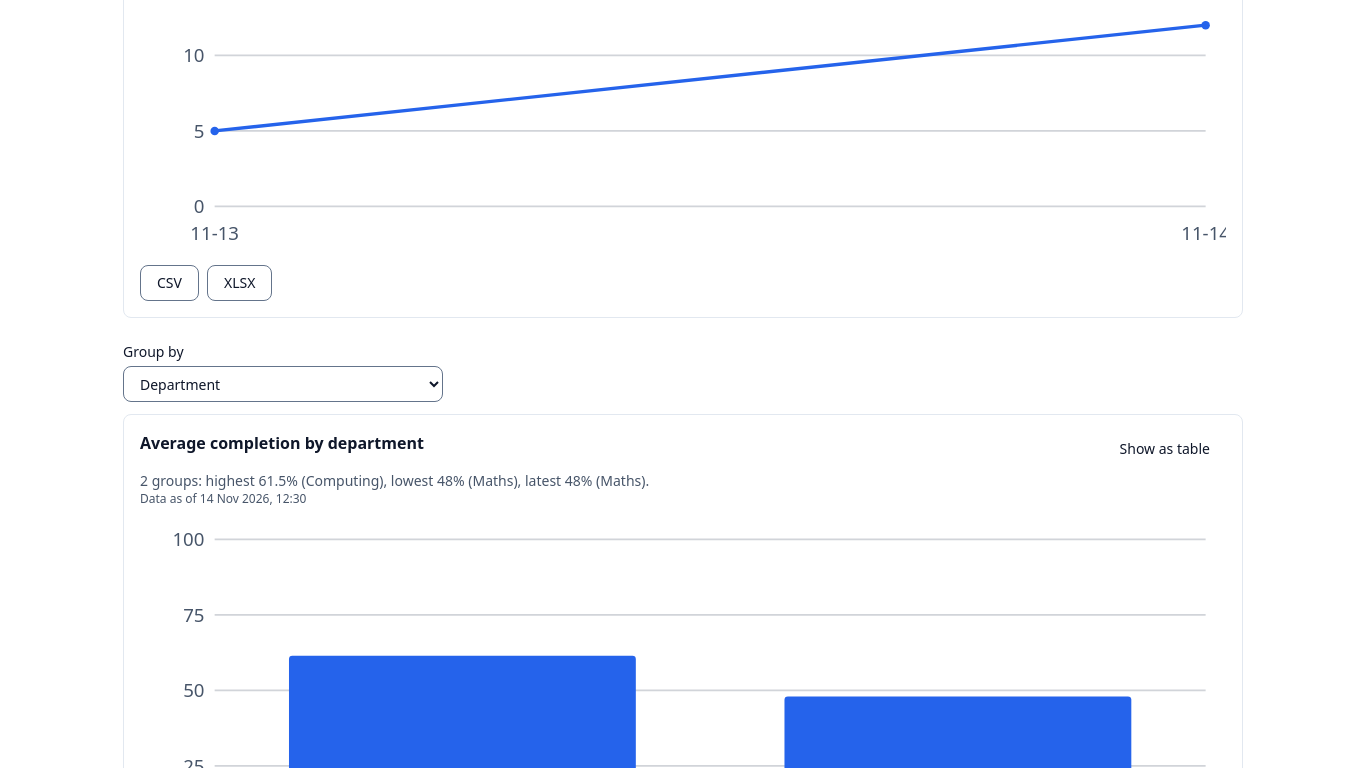
Test: college dashboard › shows active users, the activity chart, results by group, and every table with an export; switching the group refetches
The width and height of the screenshot is (1366, 768).
(page scrolled)
Expected: the button with aria-label "Export Daily activity as XLSX" is shown, [207,265,272,301]
Select "Section" in the dropdown labelled "Group by". click: (283, 384)
box: [123,366,443,402]
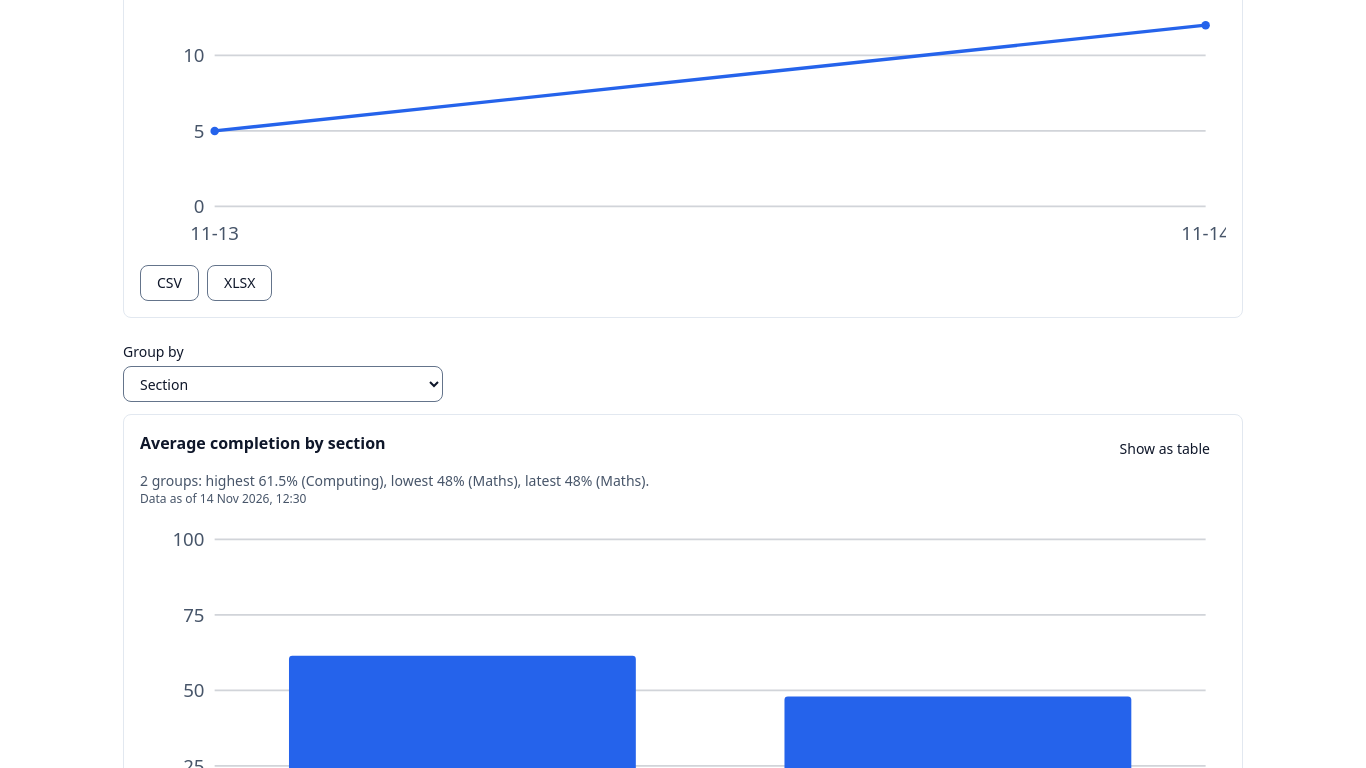
Now the text "Average completion by section" is shown, box [140,431,386,455]
